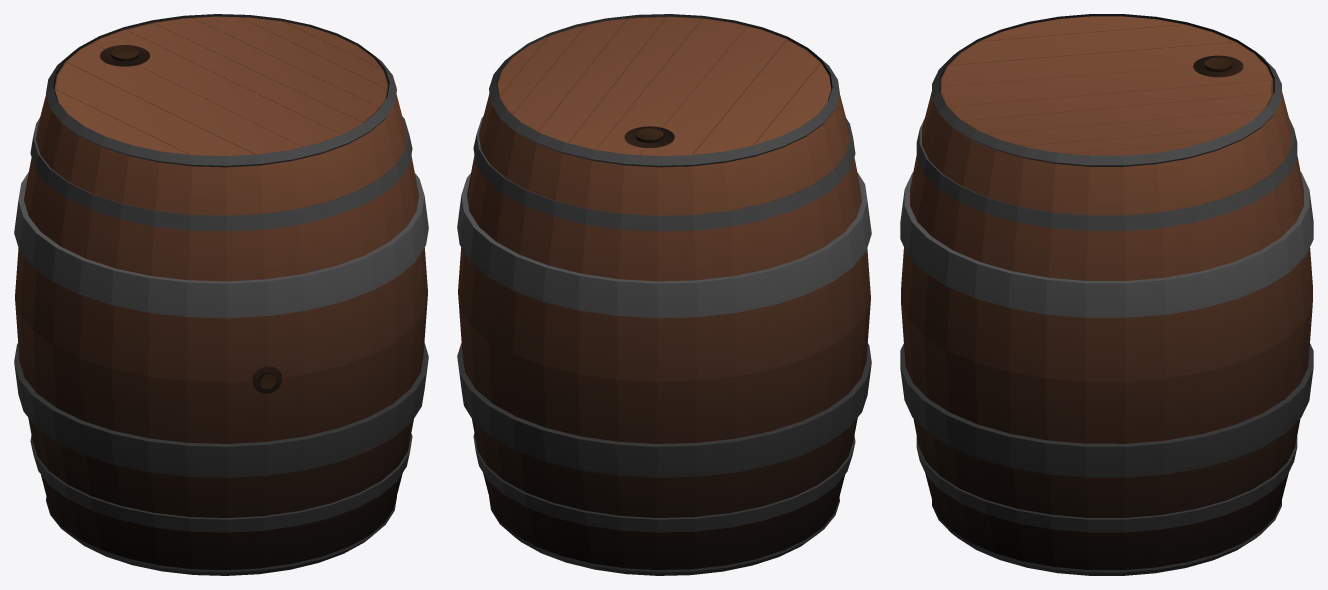
The model's file is Small Dark Barrel Closed #1.fbx.
3 renders of one model, left to right at view 1: azimuth 30°, elevation 25°; view 2: azimuth 150°, elevation 25°; view 3: azimuth 270°, elevation 25°, orthographic.
Parts seen in each view (by area): view 1: Small Dark Barrel Closed #1; view 2: Small Dark Barrel Closed #1; view 3: Small Dark Barrel Closed #1.
Boxes of the visible parts, box(x1,y1,x2,y2) form: Small Dark Barrel Closed #1: box(14, 14, 428, 575); Small Dark Barrel Closed #1: box(457, 14, 871, 575); Small Dark Barrel Closed #1: box(900, 14, 1313, 575).
Bounding box in the file's own units: 272 × 242 × 242.
Materials: 1 (1 with a texture image).
